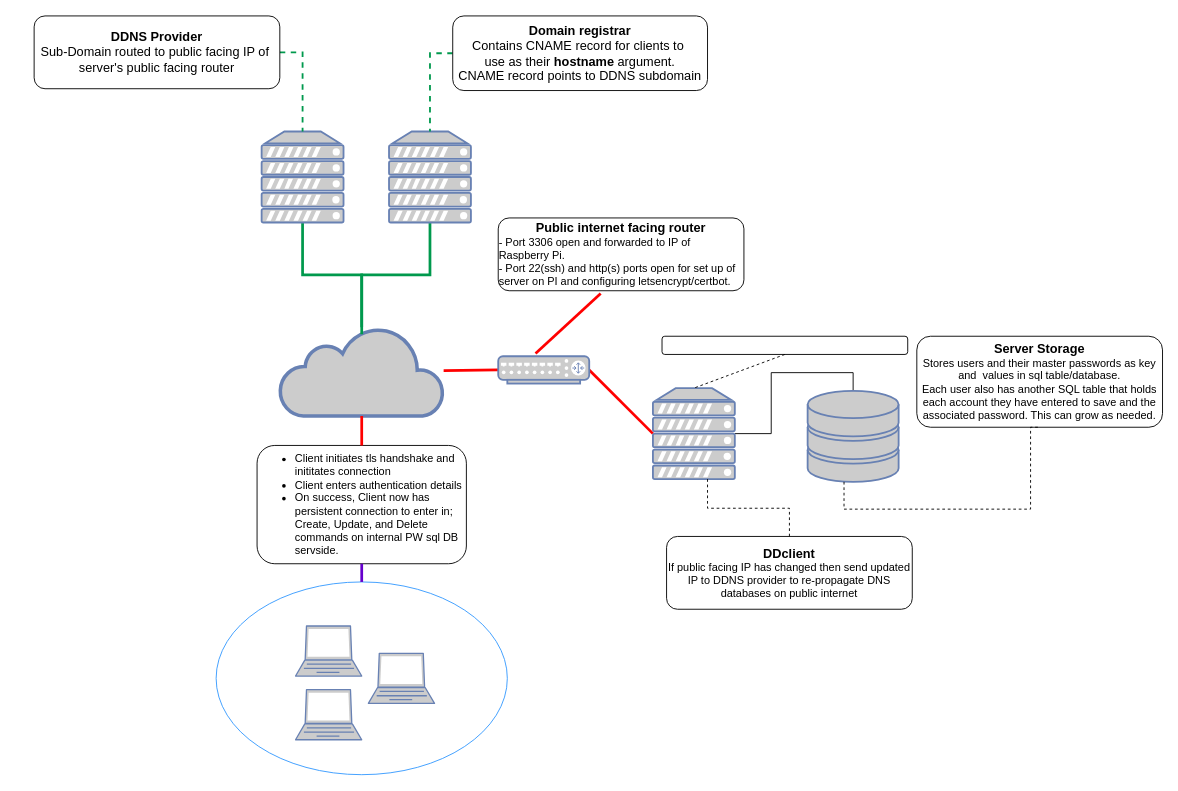
Image size: 1178x791. Some labels were removed from this diagram. The box of each missing label's shape, as (x1, y1, x2, y2) in pixels:
Clients: (215, 581, 507, 775)
Internet: (278, 326, 444, 416)
Password Manager (Raspberry Pi): (661, 335, 908, 354)
